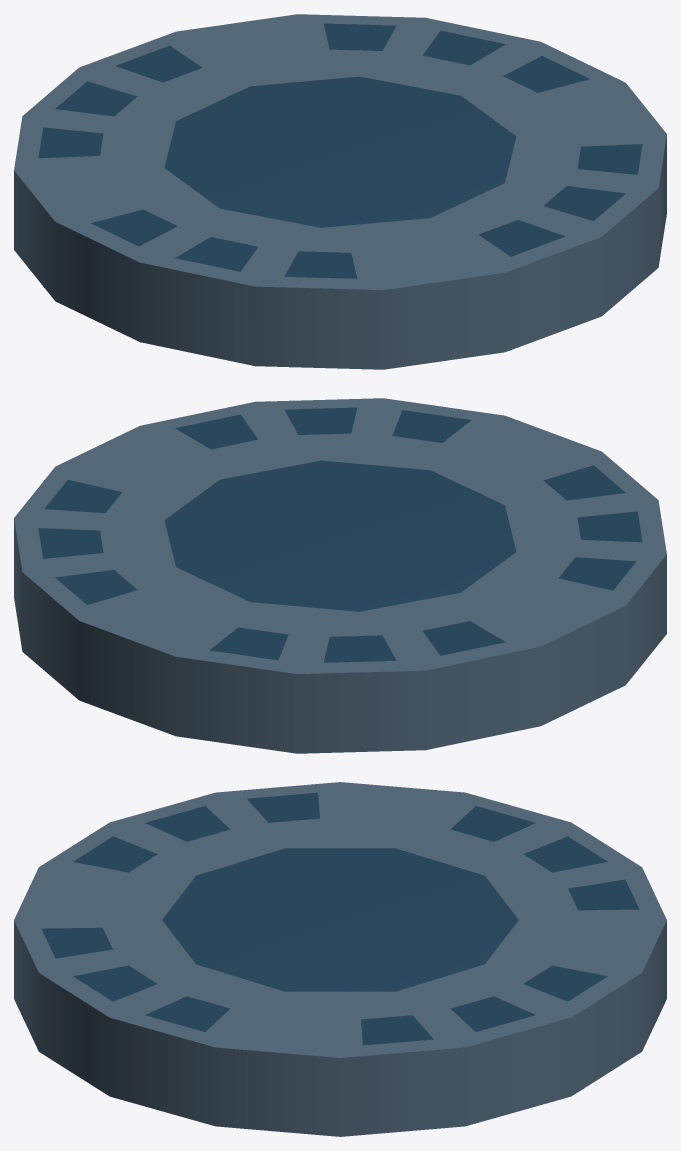
File: Manhole.fbx
3 renders of one model, top to bottom at view 1: azimuth 30°, elevation 25°; view 2: azimuth 150°, elevation 25°; view 3: azimuth 270°, elevation 25°, orthographic.
Parts seen in each view (by area): view 1: Manhole_1B; view 2: Manhole_1B; view 3: Manhole_1B.
Part boxes in pixels (box(x1,y1,x2,y2)): Manhole_1B: box(14, 14, 666, 369); Manhole_1B: box(14, 398, 666, 753); Manhole_1B: box(14, 782, 666, 1136).
Bounding box in the file's own units: 1879 × 254 × 1879.
